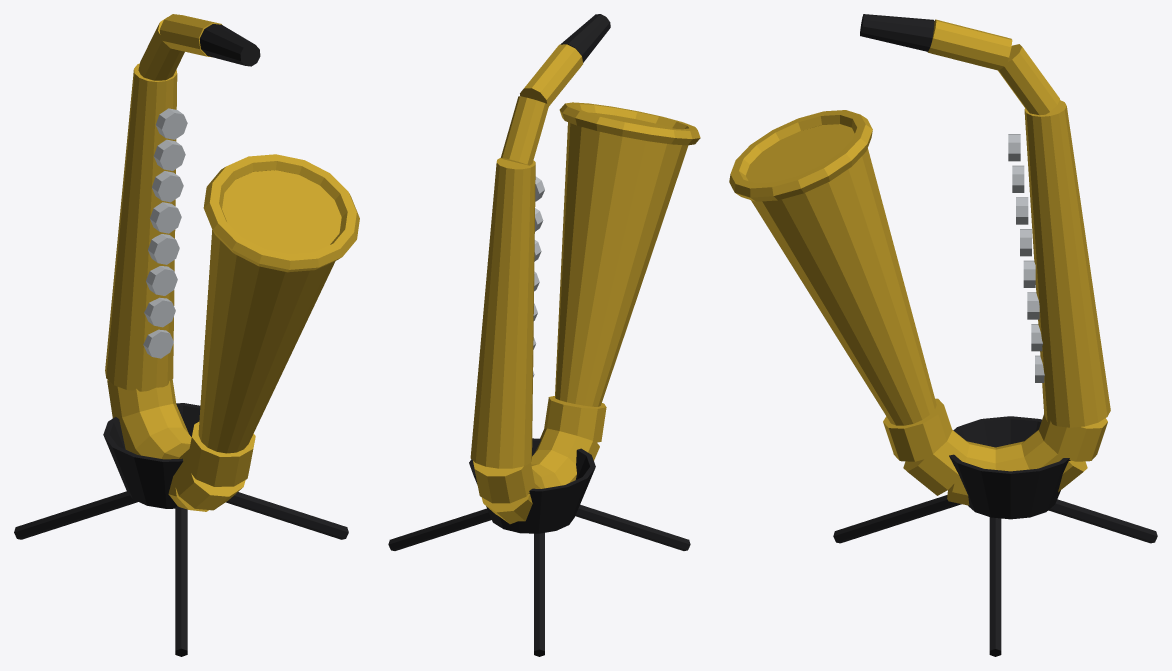
File: saxophone-in-stand.glb
3 renders of one model, left to right at view 1: azimuth 30°, elevation 25°; view 2: azimuth 150°, elevation 25°; view 3: azimuth 270°, elevation 25°, orthographic. The views are drawn at different scales.
Visible parts, largest first — view 1: sax-horn, sax-stand, sax-keys, sax-mouthpiece; view 2: sax-horn, sax-stand, sax-mouthpiece, sax-keys; view 3: sax-horn, sax-stand, sax-keys, sax-mouthpiece.
Boxes of the visible parts, box(x1,y1,x2,y2) form: sax-horn: box(105, 14, 359, 511); sax-stand: box(14, 403, 348, 656); sax-keys: box(143, 108, 187, 358); sax-mouthpiece: box(199, 24, 260, 66); sax-horn: box(470, 44, 700, 524); sax-stand: box(388, 438, 690, 656); sax-mouthpiece: box(560, 14, 610, 62); sax-keys: box(533, 176, 544, 377); sax-horn: box(729, 19, 1110, 505); sax-stand: box(833, 416, 1157, 656); sax-keys: box(1008, 134, 1044, 382); sax-mouthpiece: box(860, 14, 934, 51).
Size of the model in its own units: 0.3721 by 0.8227 by 0.5642.
